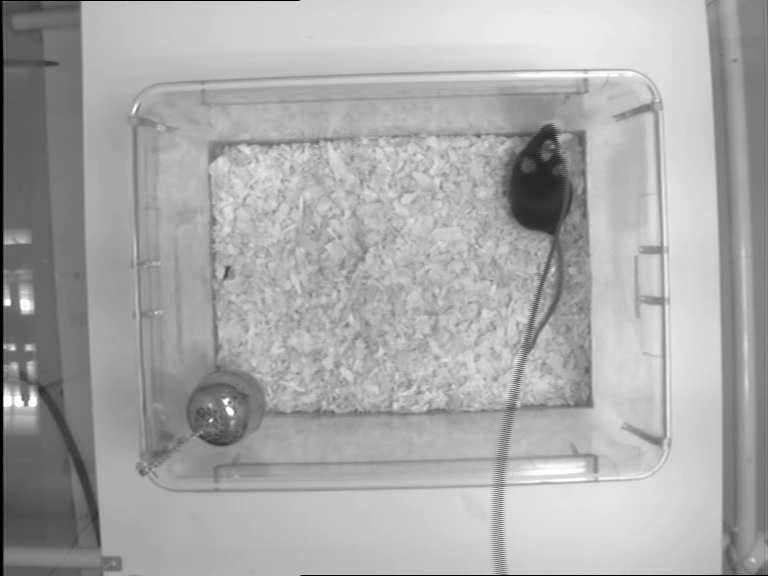mice: (506, 117, 575, 357)
